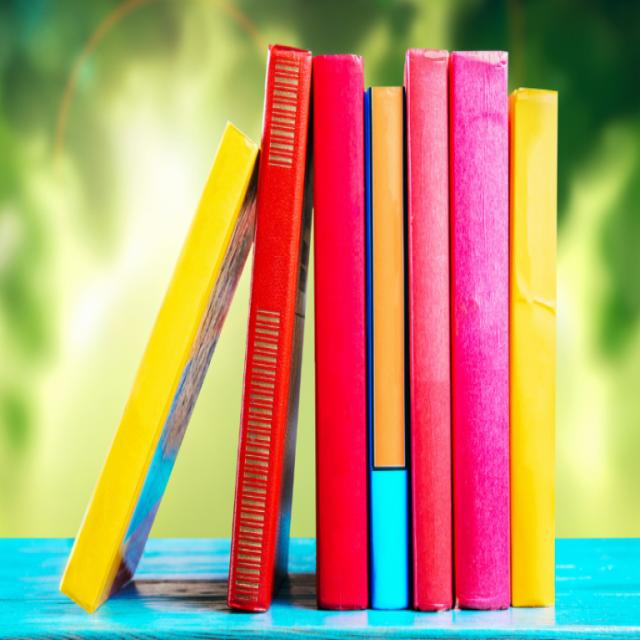Books: (60, 123, 259, 612), (228, 45, 312, 610), (449, 52, 510, 610), (312, 54, 369, 610), (404, 48, 454, 611), (509, 88, 558, 608), (365, 88, 409, 610)
